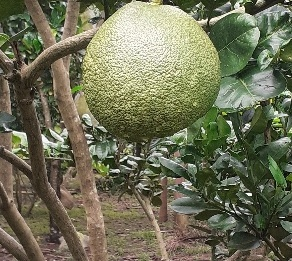Buoi: (80, 1, 221, 150)
